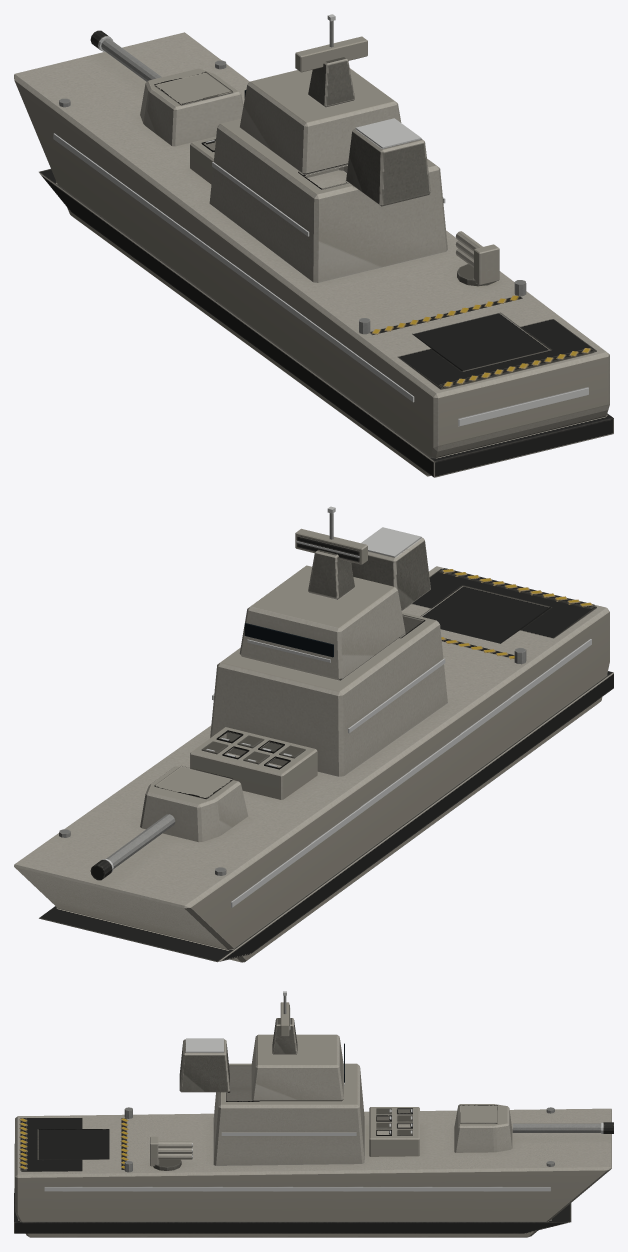
The model's file is ord_crusader.fbx.
The picture shows the model from 3 angles, top to bottom: view 1: azimuth 30°, elevation 25°; view 2: azimuth 150°, elevation 25°; view 3: azimuth 270°, elevation 25°; orthographic projection. The views are drawn at different scales.
Parts seen in each view (by area): view 1: base_bar, turret1_bar, base_glow_running_bar, turret2_bar, radar_bar, base_glow_power_bar, launcher_bar; view 2: base_bar, turret1_bar, launcher_bar, base_glow_running_bar, radar_bar, base_glow_power_bar; view 3: base_bar, turret1_bar, base_glow_running_bar, launcher_bar, turret2_bar, base_glow_power_bar.
Boxes of the visible parts, <box> form: base_bar: <box>14,20,613,477</box>; turret1_bar: <box>90,30,243,146</box>; base_glow_running_bar: <box>53,14,588,426</box>; turret2_bar: <box>455,231,499,286</box>; radar_bar: <box>295,36,367,72</box>; base_glow_power_bar: <box>355,118,421,148</box>; launcher_bar: <box>190,136,216,184</box>; base_bar: <box>14,513,613,962</box>; turret1_bar: <box>90,766,247,880</box>; launcher_bar: <box>190,727,317,799</box>; base_glow_running_bar: <box>212,506,591,907</box>; radar_bar: <box>295,528,367,564</box>; base_glow_power_bar: <box>361,527,421,557</box>; base_bar: <box>14,995,611,1237</box>; turret1_bar: <box>454,1104,613,1152</box>; base_glow_running_bar: <box>14,991,550,1192</box>; launcher_bar: <box>369,1107,419,1156</box>; turret2_bar: <box>150,1136,192,1170</box>; base_glow_power_bar: <box>186,1038,223,1052</box>.
Size of the model in its own units: 694 by 1242 by 2845.
Materials: 2 (2 with a texture image).
